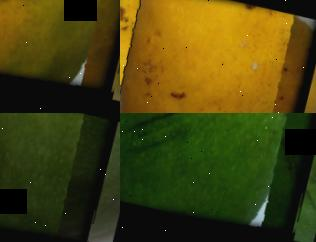PartiallyRipe: (0, 0, 120, 106)
Ripe: (120, 0, 316, 113)
Unripe: (120, 113, 316, 242), (0, 113, 118, 242)
